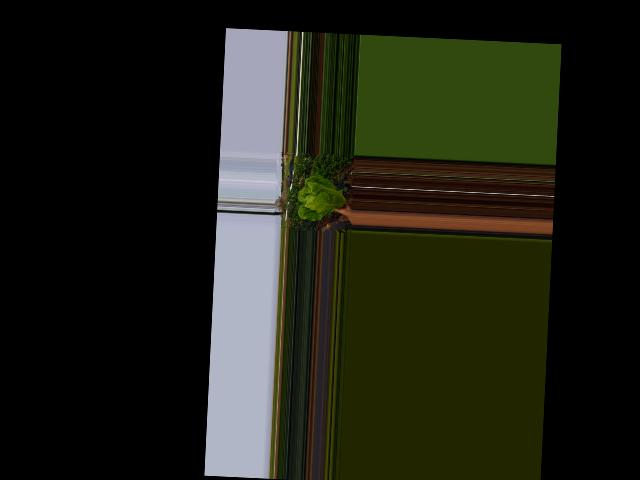lettuce: (296, 172, 350, 224)
